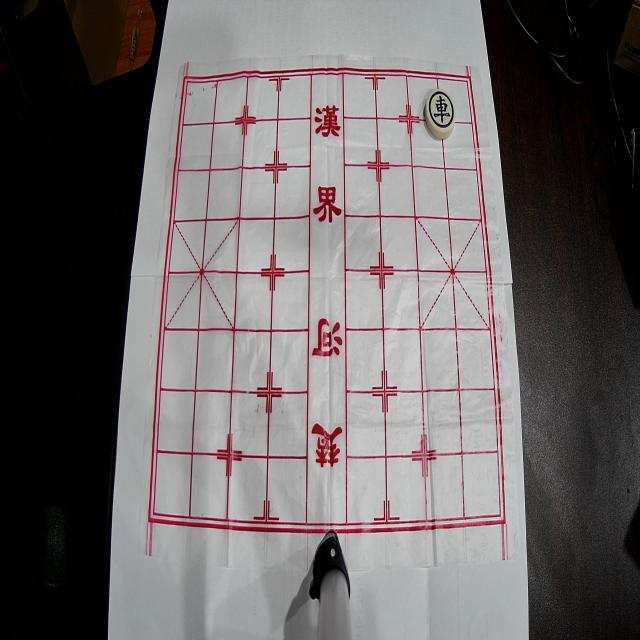black-chariot: (425, 89, 455, 138)
